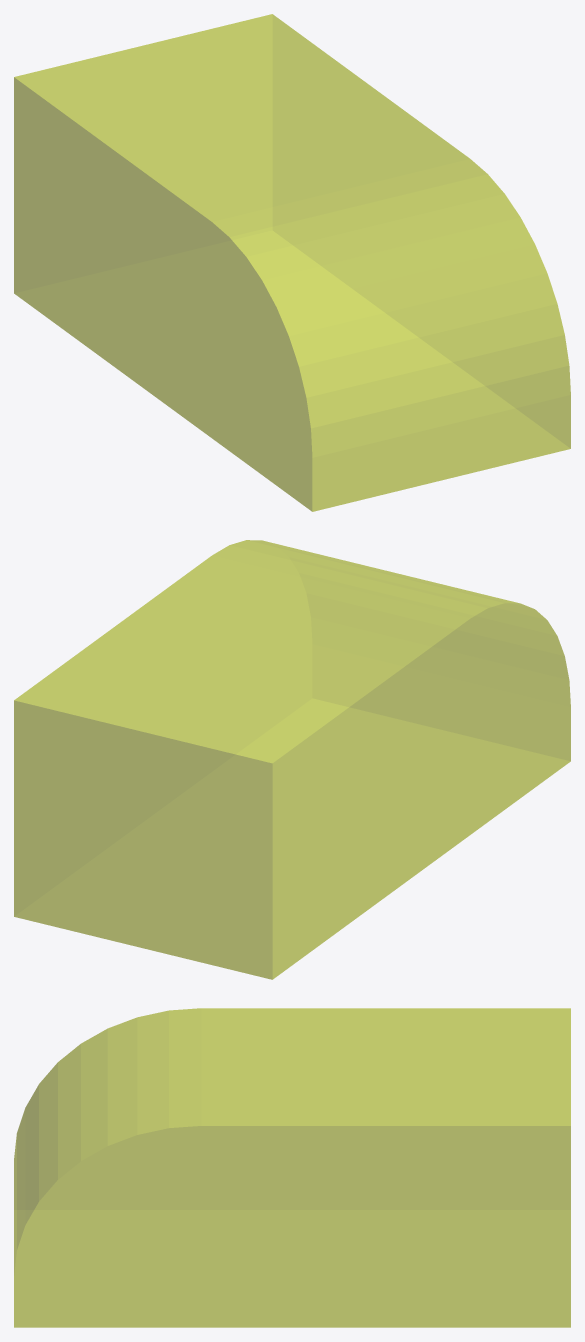
3 renders of one model, top to bottom at view 1: azimuth 30°, elevation 25°; view 2: azimuth 150°, elevation 25°; view 3: azimuth 270°, elevation 25°, orthographic. The views are drawn at different scales.
Parts seen in each view (by area): view 1: Cube; view 2: Cube; view 3: Cube.
Boxes of the visible parts, x1,y1,x2,y2 form: Cube: [14, 14, 570, 511]; Cube: [14, 540, 570, 979]; Cube: [14, 1008, 570, 1327].
Size of the model in its own units: 2 by 1.6 by 4.
